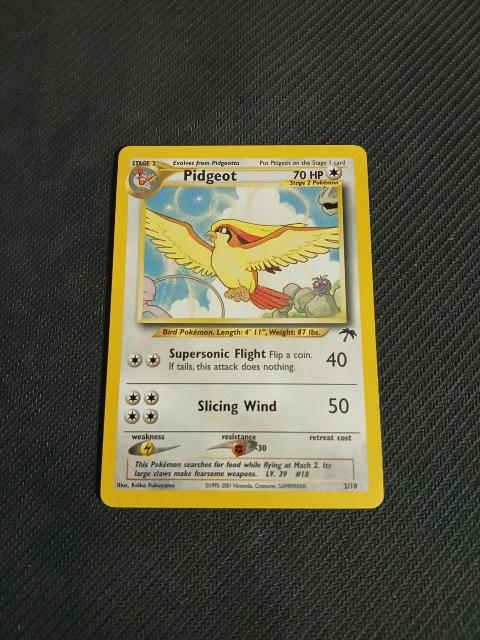Card: (95, 141, 391, 514)
Name: (178, 167, 241, 184)
